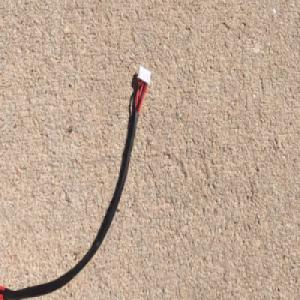Wire: (34, 66, 154, 291)
